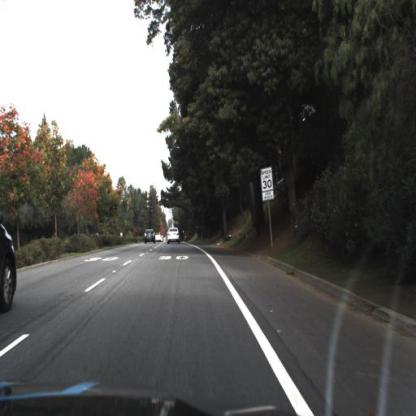car: (1, 186, 17, 320), (165, 227, 186, 250), (143, 226, 159, 248), (155, 230, 164, 244)
